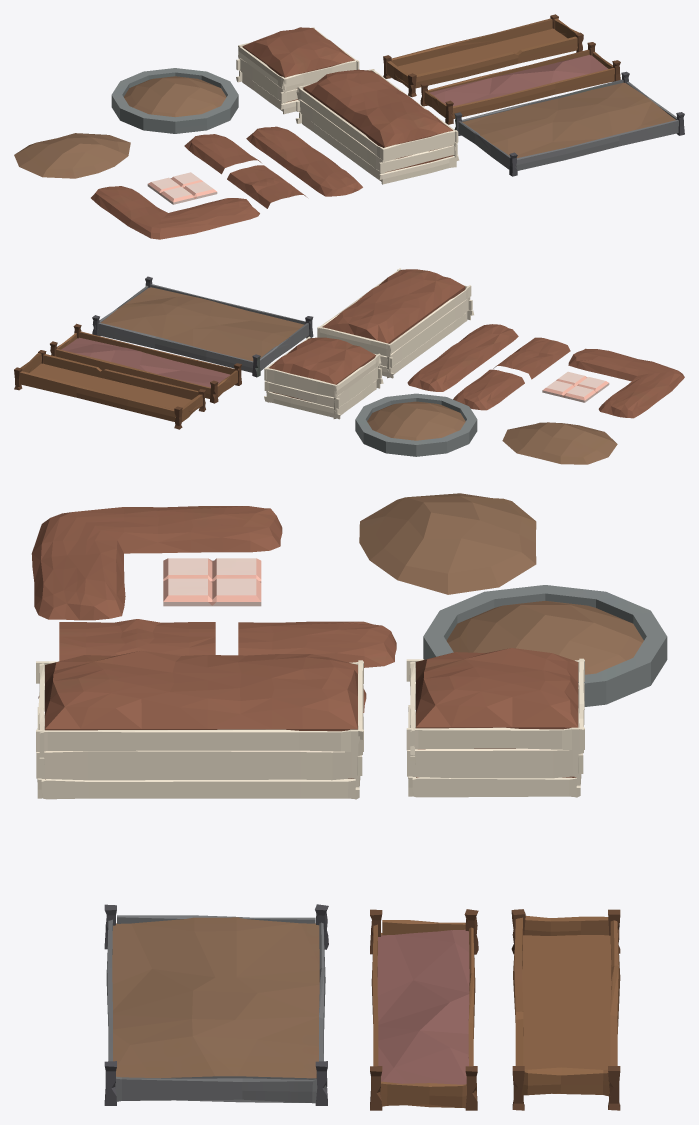
The model's file is Soil_All.fbx.
The picture shows the model from 3 angles, top to bottom: view 1: azimuth 30°, elevation 25°; view 2: azimuth 150°, elevation 25°; view 3: azimuth 270°, elevation 25°; orthographic projection. The views are drawn at different scales.
Parts seen in each view (by area): view 1: SoilBed2, Soil_Box, WaterTub, SoilBed1, Round_Soil, Soil_Box1, Soil3, soil4, Soil, Soil2, Soil1, Garden_Tile; view 2: SoilBed2, Soil_Box, Soil_Box1, WaterTub, Round_Soil, SoilBed1, Soil3, soil4, Soil, Soil1, Soil2, Garden_Tile; view 3: Soil_Box, SoilBed2, Soil_Box1, SoilBed1, WaterTub, Round_Soil, Soil3, soil4, Soil1, Soil2, Garden_Tile.
Boxes of the visible parts, left/top/right/bottom form: SoilBed2: left=454, top=71, right=684, bottom=176; Soil_Box: left=295, top=69, right=459, bottom=184; WaterTub: left=383, top=14, right=583, bottom=97; SoilBed1: left=420, top=42, right=620, bottom=124; Round_Soil: left=111, top=68, right=238, bottom=133; Soil_Box1: left=236, top=27, right=359, bottom=114; Soil3: left=91, top=186, right=259, bottom=239; soil4: left=14, top=133, right=130, bottom=178; Soil: left=246, top=126, right=362, bottom=196; Soil2: left=227, top=165, right=307, bottom=208; Soil1: left=184, top=134, right=261, bottom=174; Garden_Tile: left=147, top=172, right=217, bottom=204; SoilBed2: left=92, top=276, right=313, bottom=377; Soil_Box: left=317, top=268, right=473, bottom=378; Soil_Box1: left=264, top=336, right=383, bottom=419; WaterTub: left=14, top=350, right=206, bottom=429; Round_Soil: left=355, top=393, right=477, bottom=456; SoilBed1: left=50, top=323, right=241, bottom=403; Soil3: left=568, top=348, right=684, bottom=418; soil4: left=502, top=422, right=617, bottom=464; Soil: left=407, top=324, right=518, bottom=391; Soil1: left=453, top=369, right=524, bottom=410; Soil2: left=493, top=337, right=570, bottom=379; Garden_Tile: left=542, top=371, right=609, bottom=402; Soil_Box: left=36, top=650, right=363, bottom=799; SoilBed2: left=104, top=904, right=328, bottom=1105; Soil_Box1: left=406, top=648, right=584, bottom=797; SoilBed1: left=370, top=909, right=478, bottom=1110; WaterTub: left=511, top=909, right=620, bottom=1110; Round_Soil: left=423, top=585, right=667, bottom=706; Soil3: left=31, top=506, right=282, bottom=620; soil4: left=359, top=493, right=536, bottom=594; Soil1: left=238, top=621, right=396, bottom=667; Soil2: left=59, top=619, right=215, bottom=661; Garden_Tile: left=163, top=558, right=261, bottom=606.
Bounding box in the file's own units: 0.1049 × 0.0152 × 0.052.
1 material, 1 textured.
